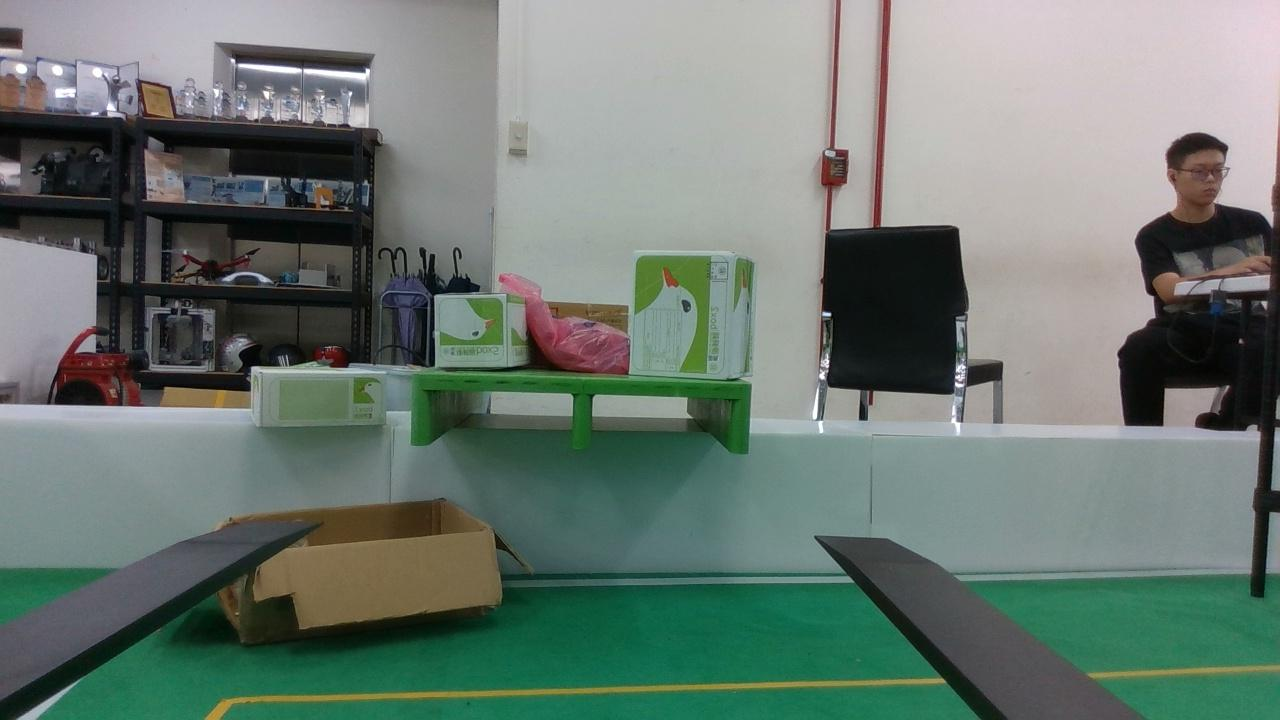Pallet: (410, 373, 754, 449)
